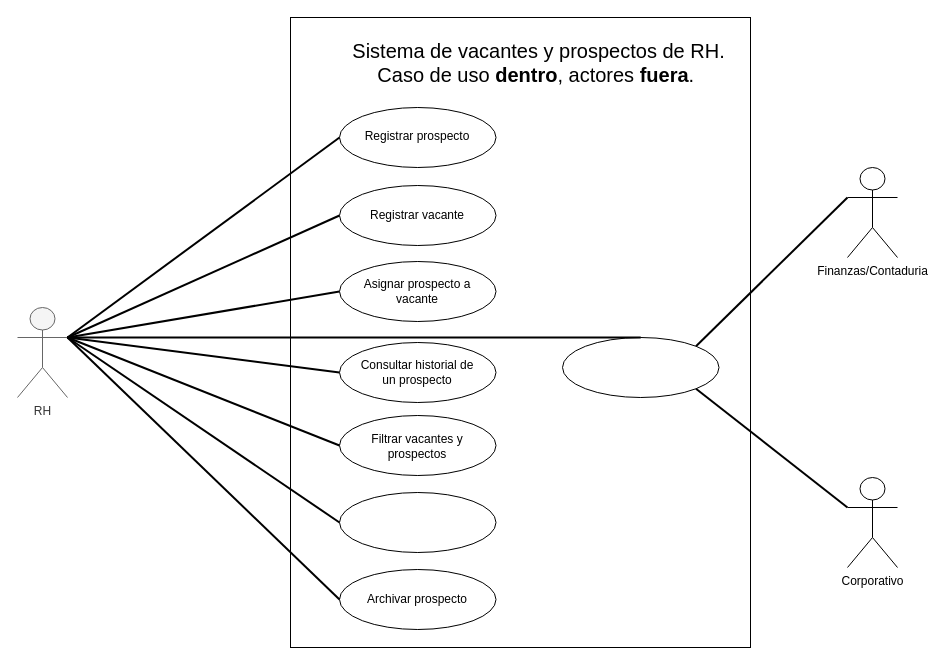
This 945x665 diagram has some shape labels left out. The shapes that lost their labels are listed below. From the top down, each one's centre as x and y in pixels, then its label:
(x=640, y=367): Consultar estatus de vacantes
(x=417, y=522): Reabrir vacante ocupada
